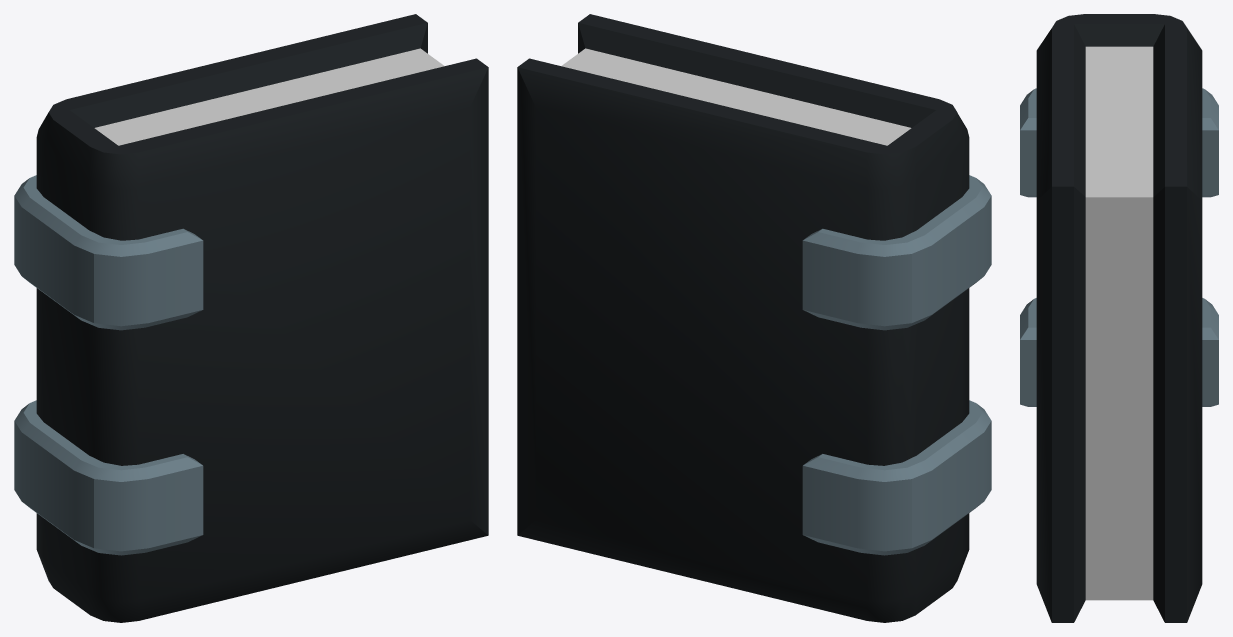
File: bookA.obj
3 views of the same model, side by side, from view 1: azimuth 30°, elevation 25°; view 2: azimuth 150°, elevation 25°; view 3: azimuth 270°, elevation 25° (orthographic). The views are drawn at different scales.
Parts seen in each view (by area): view 1: bookA_Cube.4073; view 2: bookA_Cube.4073; view 3: bookA_Cube.4073.
Part boxes in pixels (bbox=[...]): bookA_Cube.4073: bbox=[14, 14, 488, 622]; bookA_Cube.4073: bbox=[517, 14, 991, 622]; bookA_Cube.4073: bbox=[1020, 14, 1218, 622].
Bounding box in the file's own units: 0.3758 × 0.4161 × 0.172.
